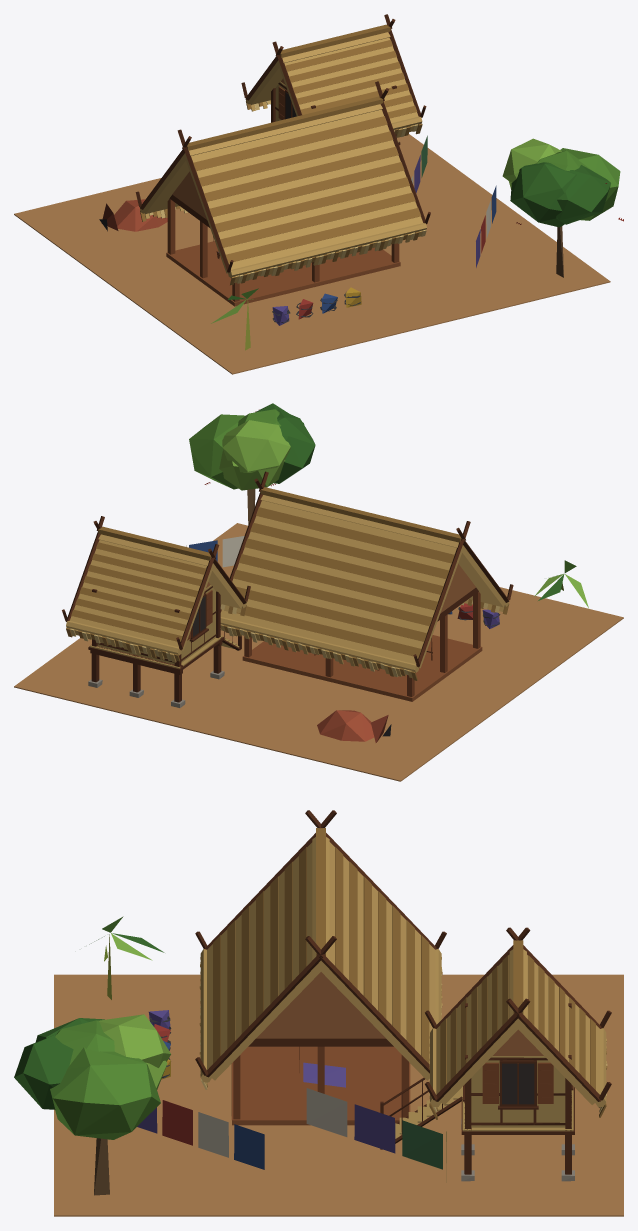
The model's file is factory_1.glb.
The picture shows the model from 3 angles, top to bottom: view 1: azimuth 30°, elevation 25°; view 2: azimuth 150°, elevation 25°; view 3: azimuth 270°, elevation 25°; orthographic projection. The views are drawn at different scales.
Visible parts, largest first — view 1: body; view 2: body; view 3: body, windows.
Part boxes in pixels (x1=…): body: x1=14, y1=14, x2=623, y2=374; body: x1=14, y1=403, x2=623, y2=781; body: x1=14, y1=810, x2=623, y2=1216; windows: x1=502, y1=1063, x2=534, y2=1104.
Bounding box in the file's own units: 16.82 × 6.22 × 17.02.
